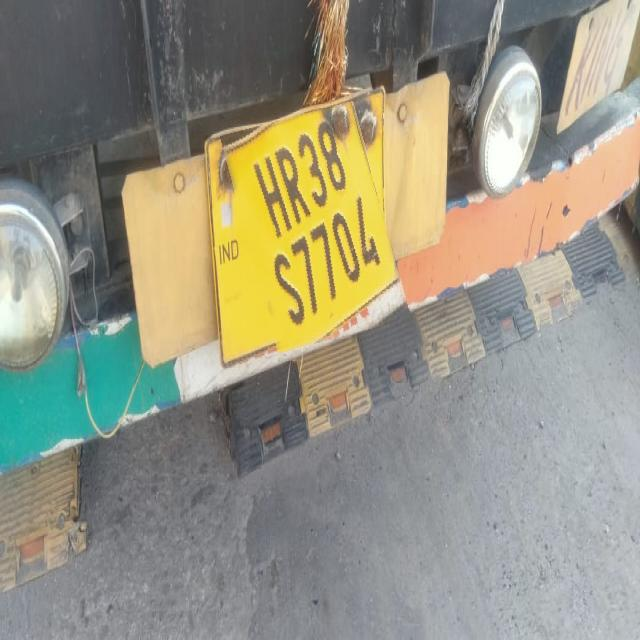License-plate: (234, 107, 398, 346)
